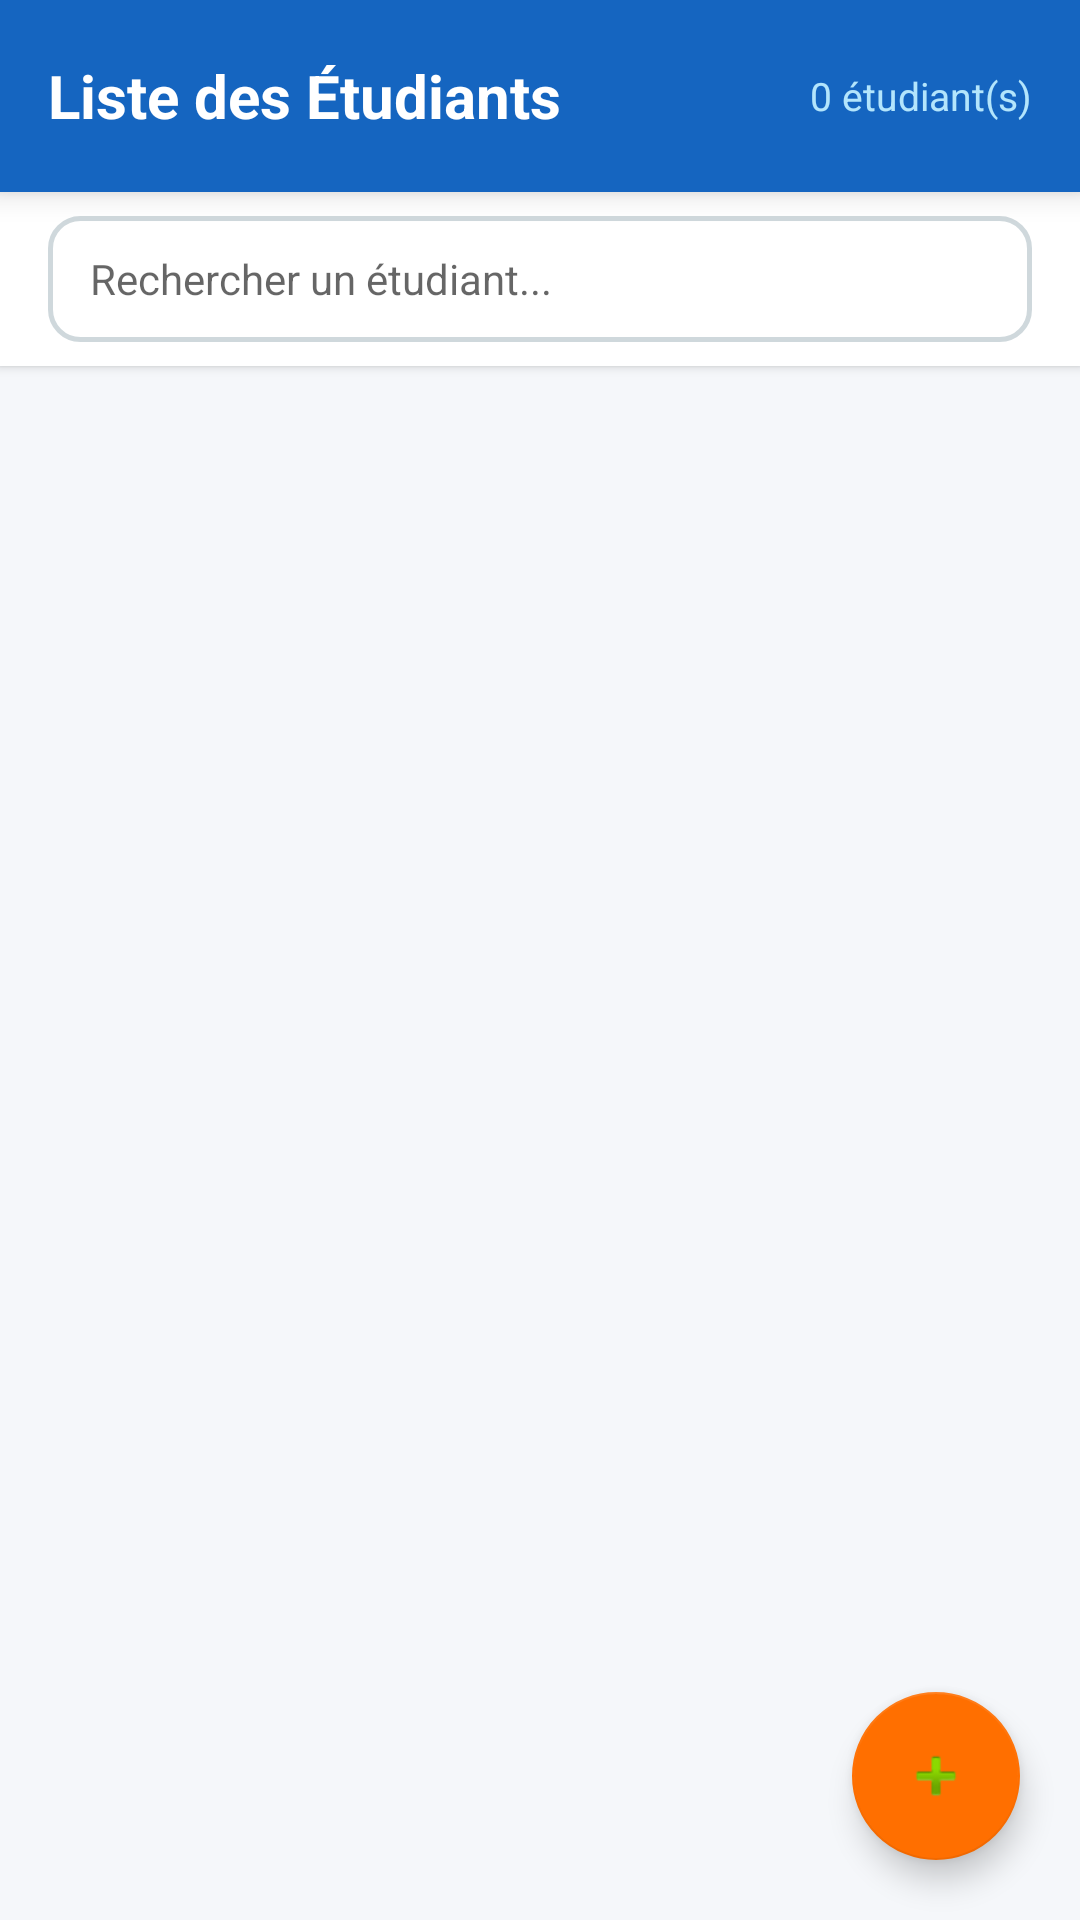

Locate icon controls on the screen. Image size 1080 × 1920, boxes as (x1, y1, x2, y2).
Ajouter: (852, 1692, 1020, 1860)
